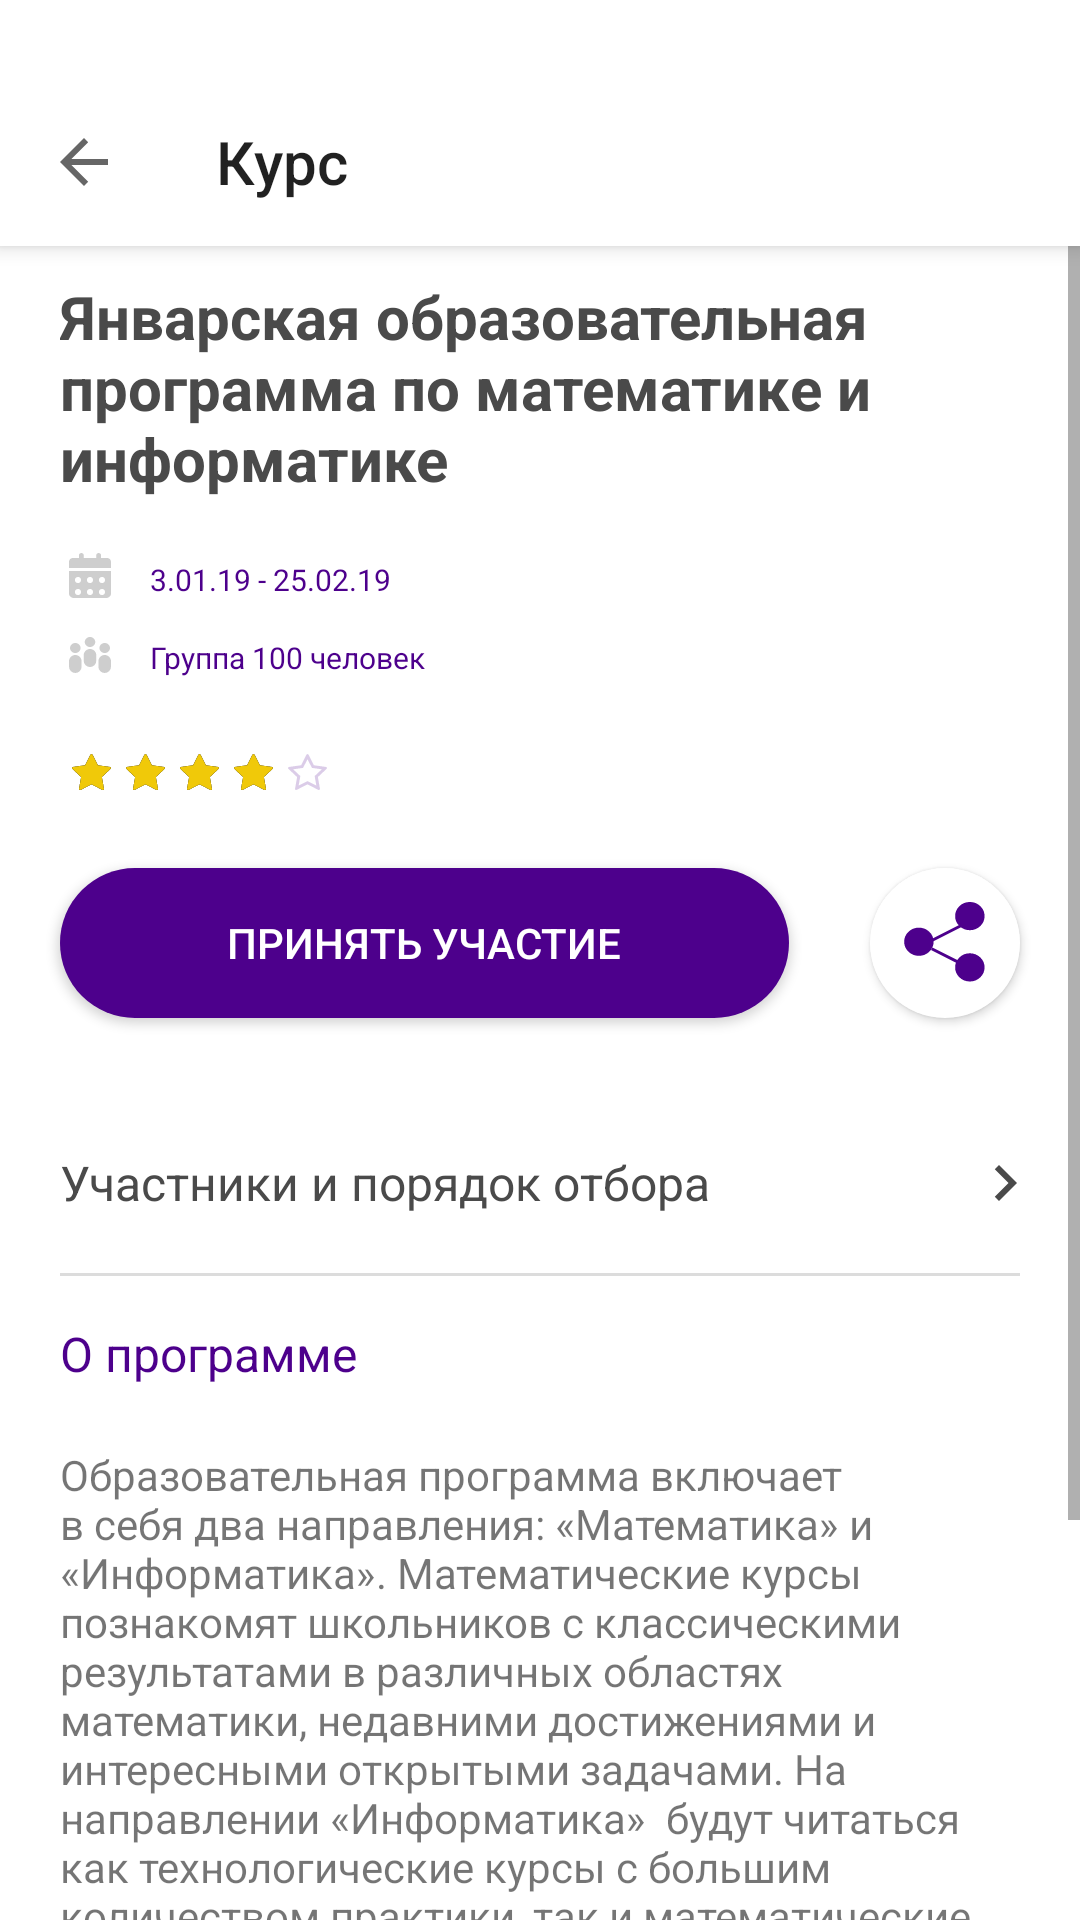

Icons on this 1080px×1920px Android screen, each with the point to tap as (x,y):
course peoples: (90,655)
